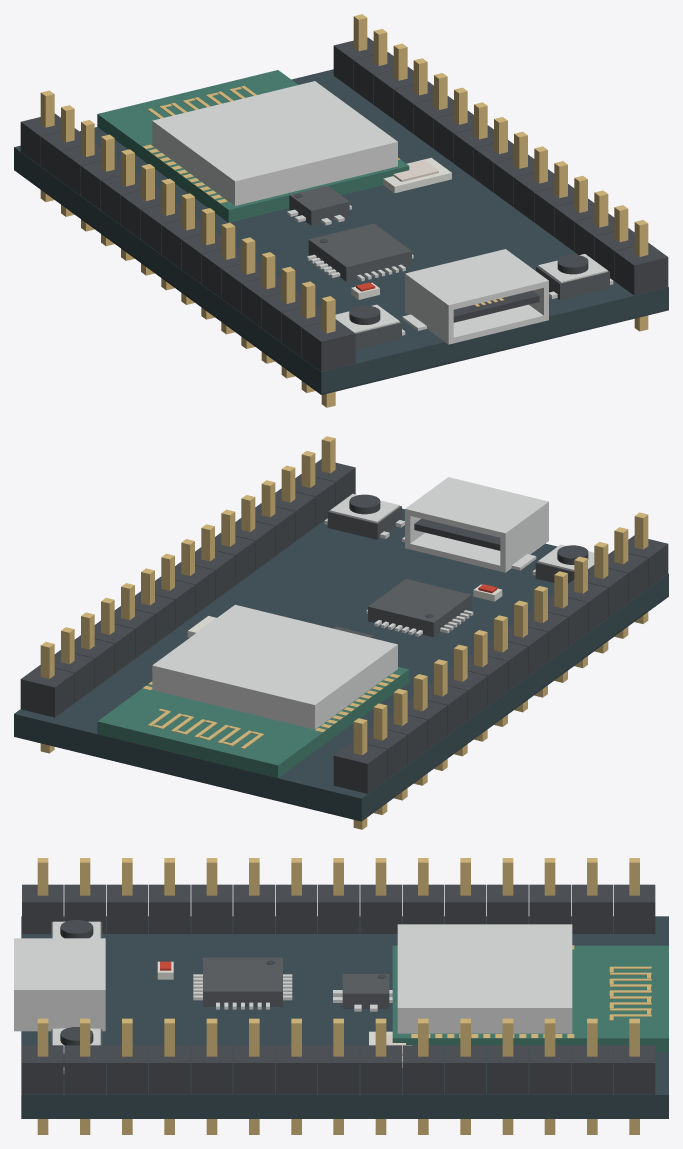
Rendered from esp32-c3-devkitm-1.glb.
3 views of the same model, one above another, from view 1: azimuth 30°, elevation 25°; view 2: azimuth 150°, elevation 25°; view 3: azimuth 270°, elevation 25° (orthographic). The views are drawn at different scales.
Parts seen in each view (by area): view 1: PCB, U4, J1, J3, J2, U3, SW2, SW1, U2, D6; view 2: PCB, U4, J1, J3, J2, U3, SW2, SW1; view 3: PCB, J3, J1, U4, J2, U3, U2, SW1, SW2.
Boxes of the visible parts, bbox=[...] form: PCB: bbox=[14, 69, 668, 394]; U4: bbox=[97, 70, 409, 222]; J1: bbox=[20, 90, 355, 407]; J3: bbox=[333, 14, 668, 331]; J2: bbox=[402, 249, 548, 344]; U3: bbox=[307, 223, 413, 281]; SW2: bbox=[536, 254, 613, 299]; SW1: bbox=[335, 304, 405, 349]; U2: bbox=[287, 185, 351, 225]; D6: bbox=[383, 157, 451, 193]; PCB: bbox=[14, 508, 668, 821]; U4: bbox=[97, 604, 409, 778]; J1: bbox=[333, 512, 668, 829]; J3: bbox=[20, 436, 355, 753]; J2: bbox=[402, 477, 548, 572]; U3: bbox=[366, 579, 473, 637]; SW2: bbox=[324, 494, 404, 539]; SW1: bbox=[532, 544, 594, 583]; PCB: bbox=[21, 916, 668, 1118]; J3: bbox=[22, 1018, 655, 1134]; J1: bbox=[22, 858, 655, 933]; U4: bbox=[392, 924, 668, 1051]; J2: bbox=[14, 938, 105, 1031]; U3: bbox=[193, 957, 292, 1009]; U2: bbox=[333, 974, 392, 1011]; SW1: bbox=[51, 920, 102, 938]; SW2: bbox=[51, 1027, 102, 1073].
Size of the model in its own units: 0.0254 by 0.0074 by 0.0394.
